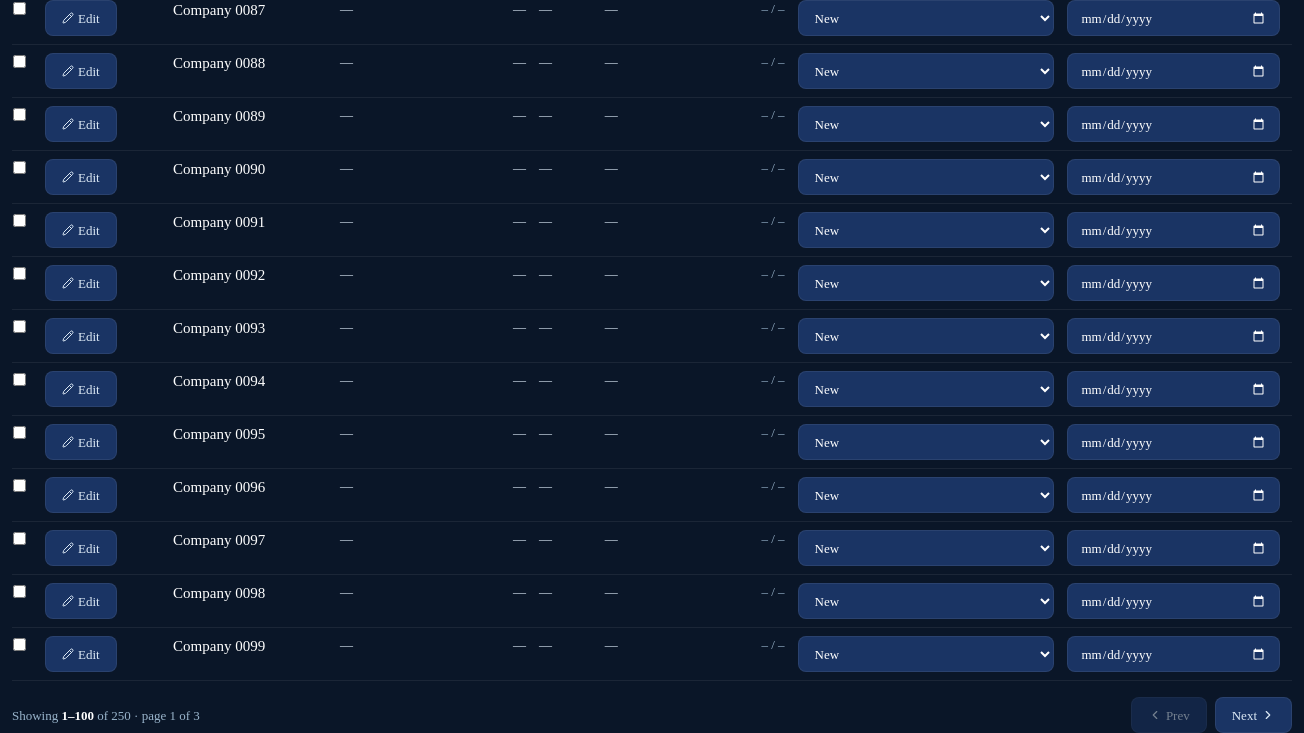
ProspectsClient pagination › advances to the next page and lands on the following rows
(page scrolled)
Click the button with aria-label "Next page" at (1253, 715), box 1215,697 -> 1292,732
(page scrolled)
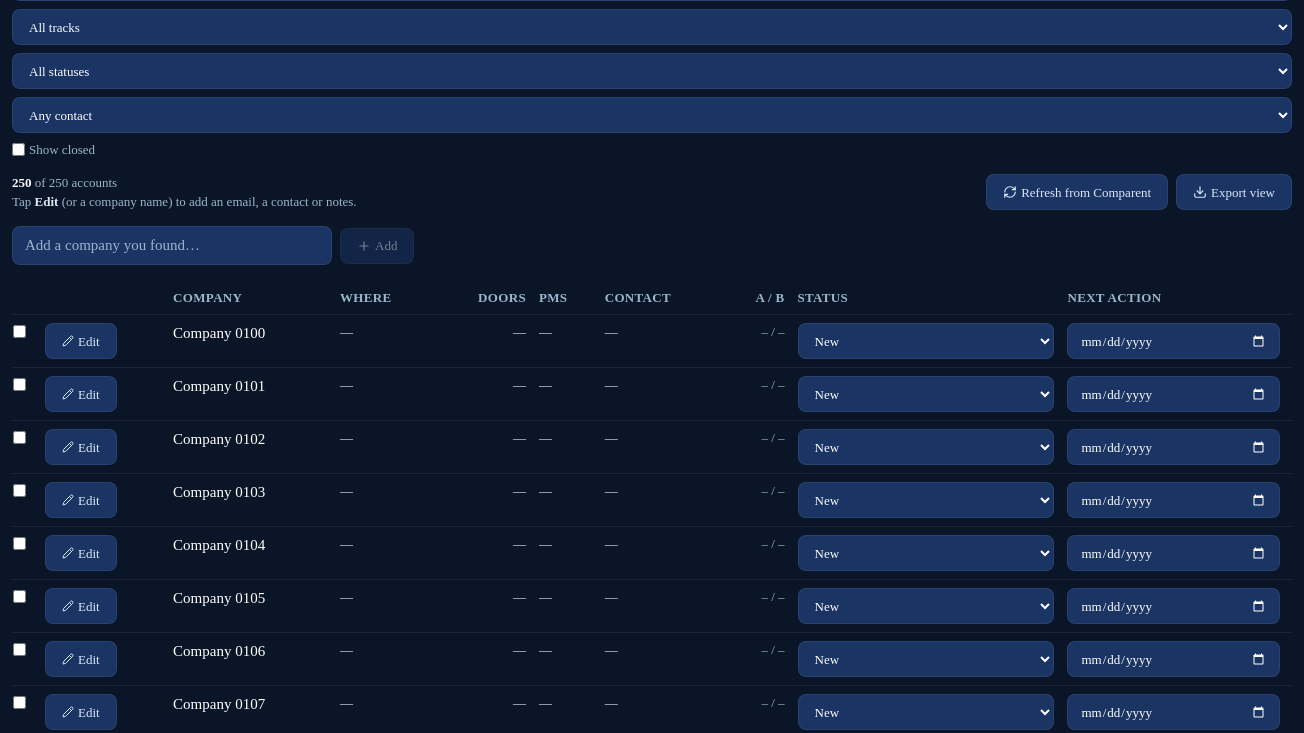
Expected: the button "Company 0100" is shown, 173,323 -> 265,344
